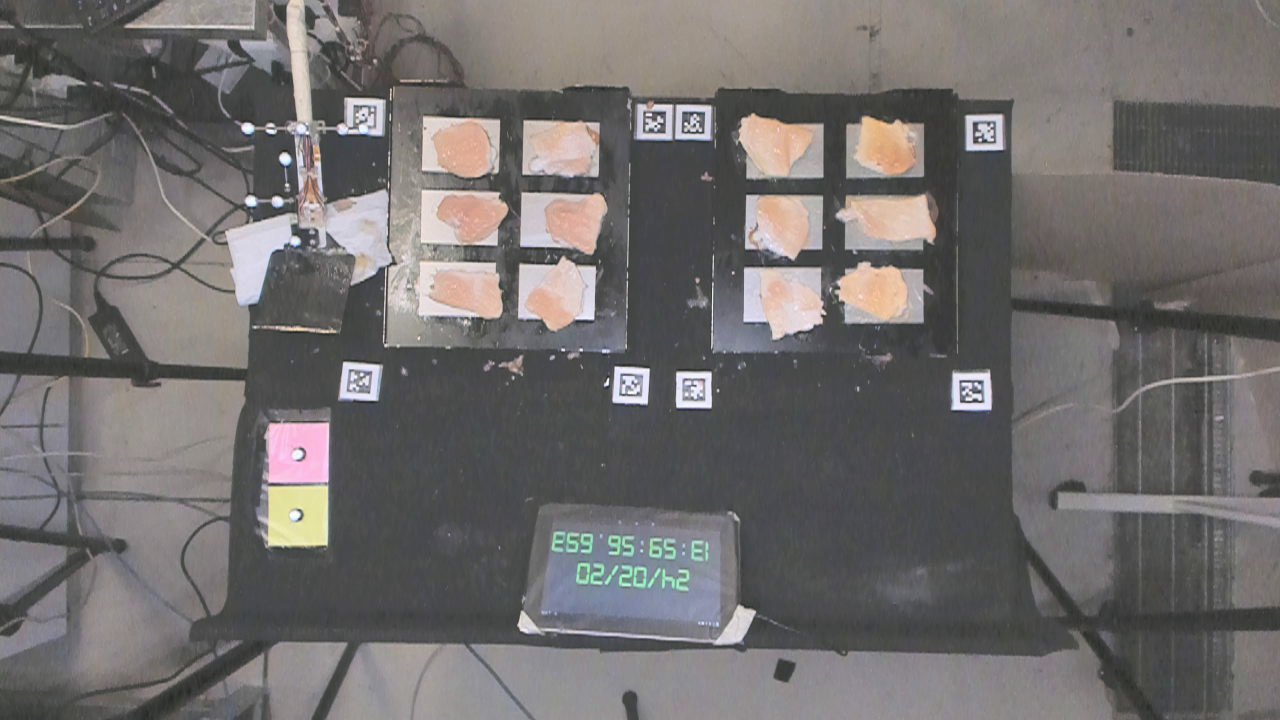chicken: (735, 111, 812, 182), (754, 265, 824, 342), (843, 192, 942, 243), (526, 261, 594, 331), (829, 264, 911, 322), (859, 113, 923, 179), (750, 195, 814, 261), (429, 263, 503, 320), (540, 196, 609, 256), (429, 117, 494, 179), (524, 122, 598, 175), (433, 189, 508, 241)
marker: (263, 419, 333, 486)
